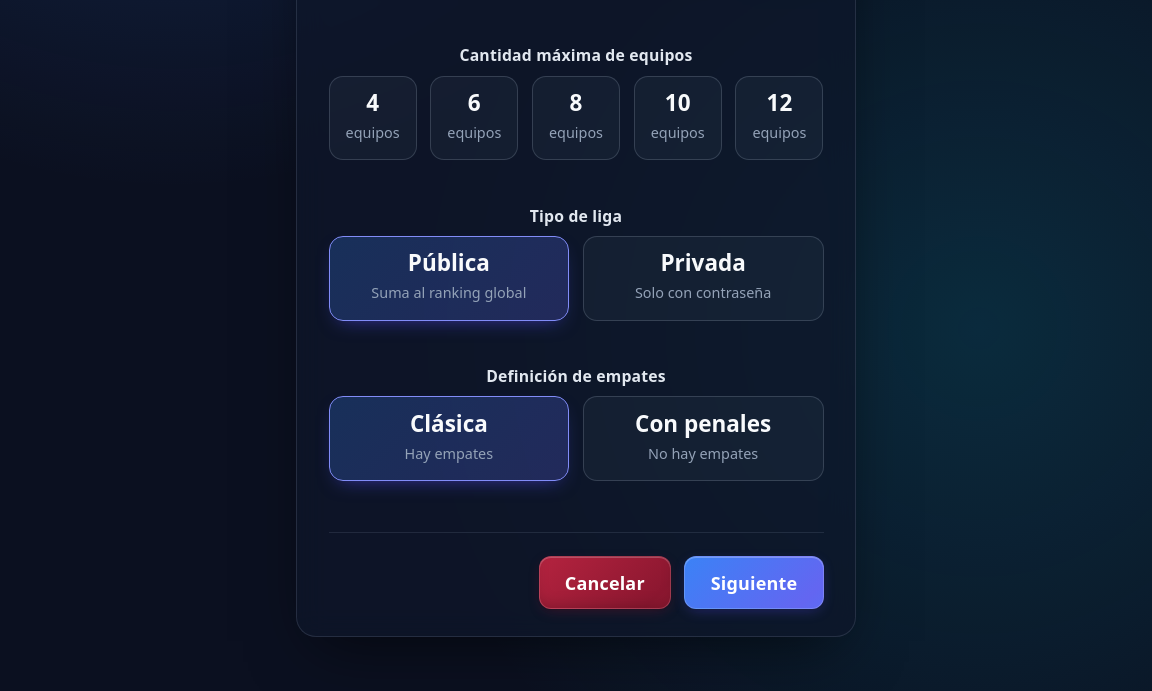
CreateLeaguePage › Paso 1: datos de la liga › Debería mostrarse la opción de penales elegida marcada y la otra desmarcada
This screenshot has width=1152, height=691.
(page scrolled)
What coordinates should you click on to do the following:
click the radio button labelled "Con penales No hay empates"
I would click on:
 (703, 439)
Its box is [583,396,824,481].
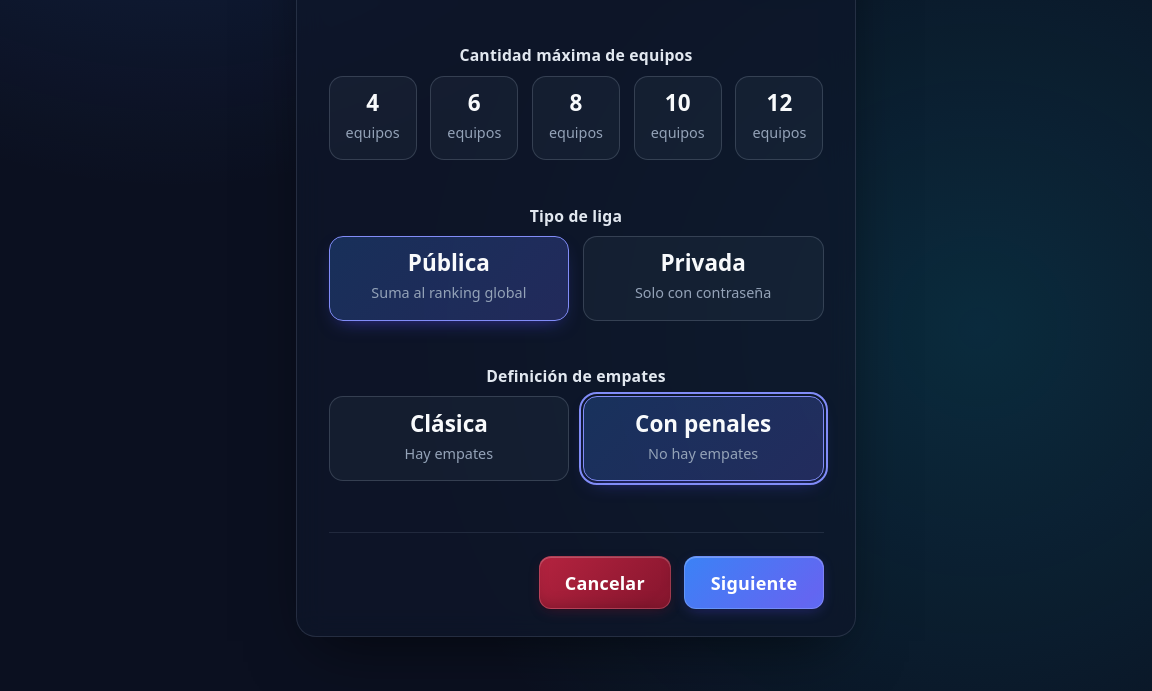
expect the radio button labelled "Con penales No hay empates" is checked: met, box [583,396,824,481]
expect the radio button labelled "Clásica Hay empates" is not checked: met, box [328,396,569,481]
